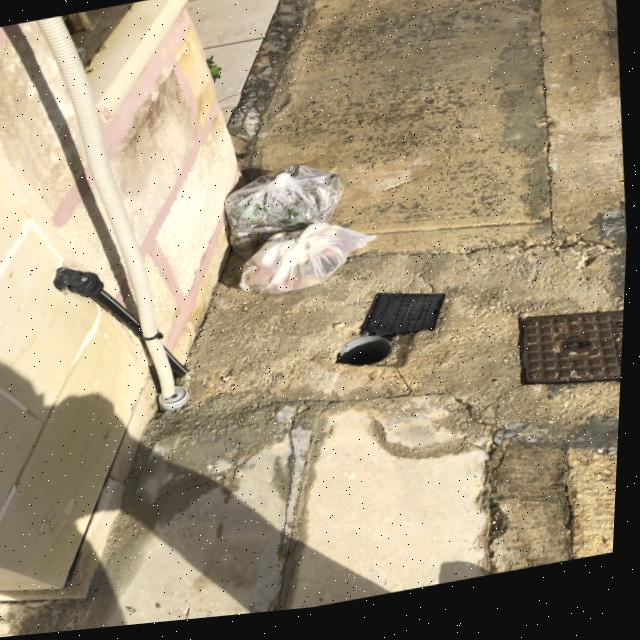Organic Waste -White Bag-: (232, 220, 381, 317)
Other: (212, 162, 347, 247)
